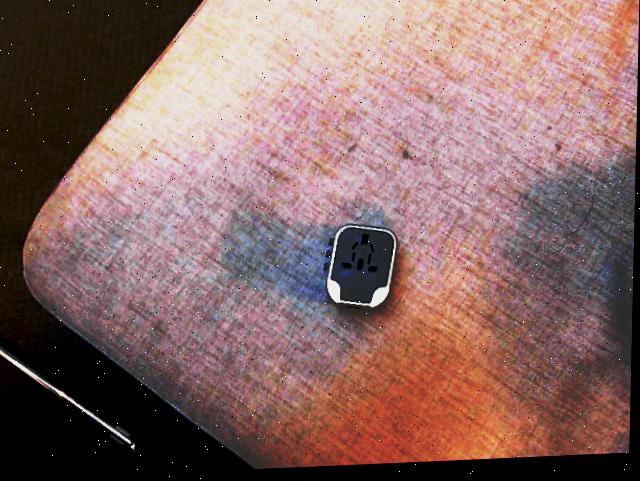adapter: (324, 226, 398, 314)
